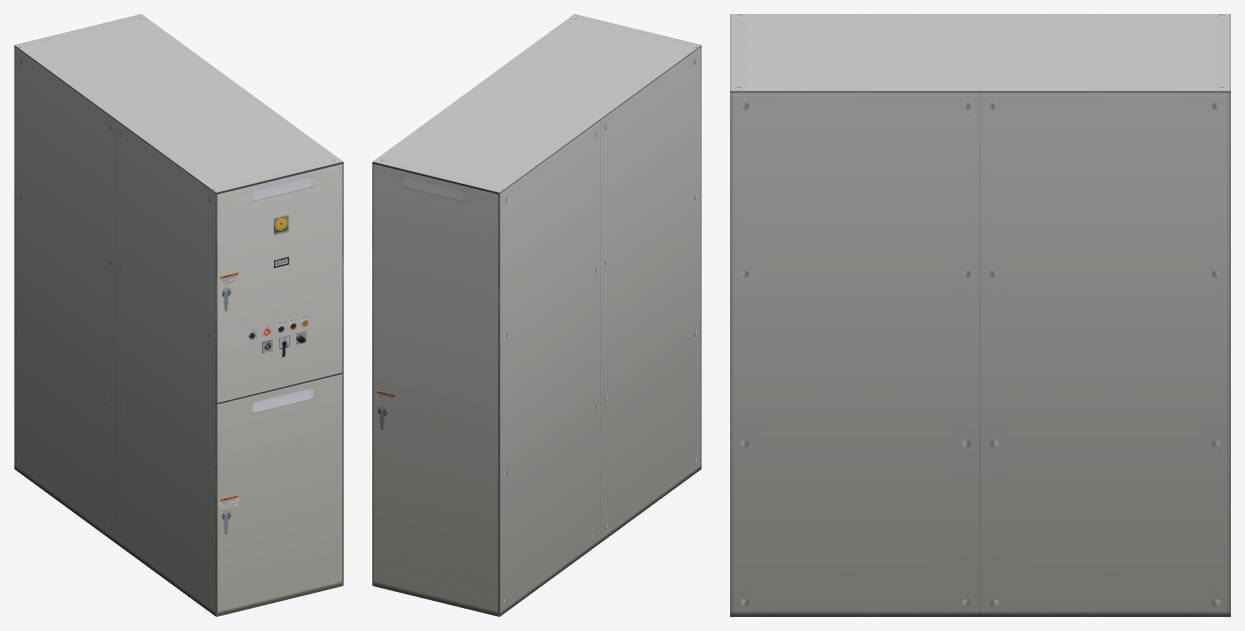
The picture shows the model from 3 angles, left to right: view 1: azimuth 30°, elevation 25°; view 2: azimuth 150°, elevation 25°; view 3: azimuth 270°, elevation 25°; orthographic projection. The views are drawn at different scales.
Visible parts, largest first — view 1: LV-H1-D028; view 2: LV-H1-D028; view 3: LV-H1-D028.
Part boxes in pixels (left/top/right/bottom): LV-H1-D028: left=14, top=14, right=343, bottom=616; LV-H1-D028: left=372, top=14, right=701, bottom=616; LV-H1-D028: left=730, top=14, right=1230, bottom=616.
Bounding box in the file's own units: 0.8 × 2.55 × 2.2.
1 material, 1 textured.
